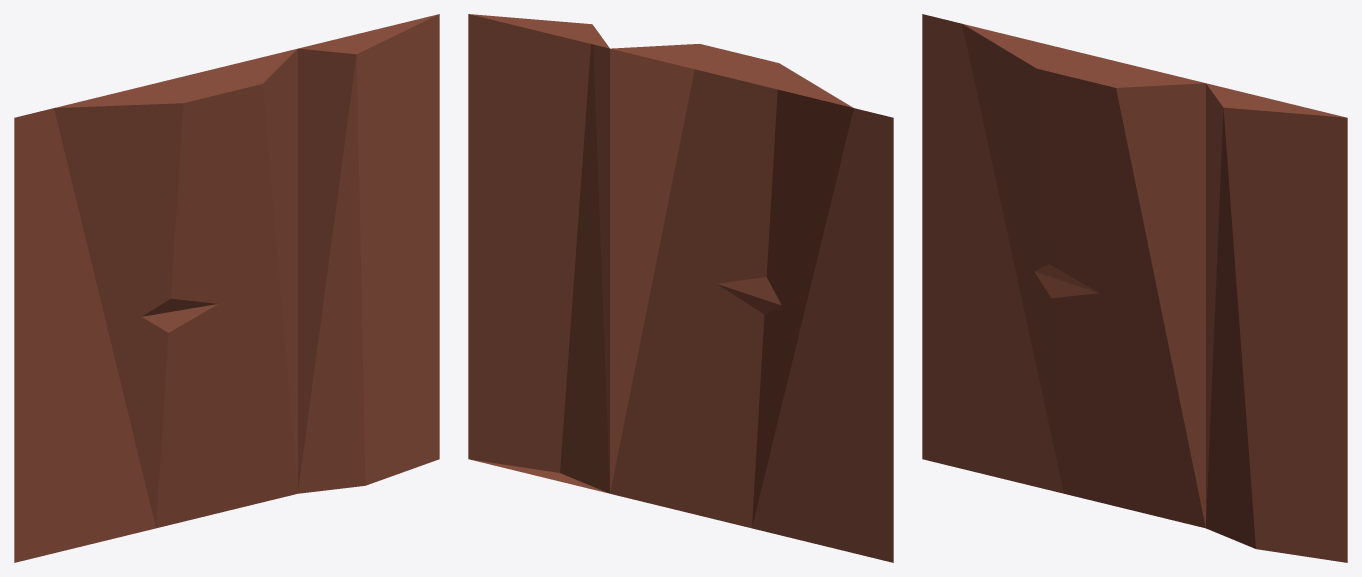
The model's file is Wall_005.FBX.
3 renders of one model, left to right at view 1: azimuth 30°, elevation 25°; view 2: azimuth 150°, elevation 25°; view 3: azimuth 330°, elevation 25°, orthographic.
Parts seen in each view (by area): view 1: Wall_005; view 2: Wall_005; view 3: Wall_005.
Boxes of the visible parts, x1,y1,x2,y2 form: Wall_005: [14, 14, 439, 562]; Wall_005: [468, 14, 893, 562]; Wall_005: [922, 14, 1347, 562].
Bounding box in the file's own units: 78.74 × 78.74 × 8.77.
